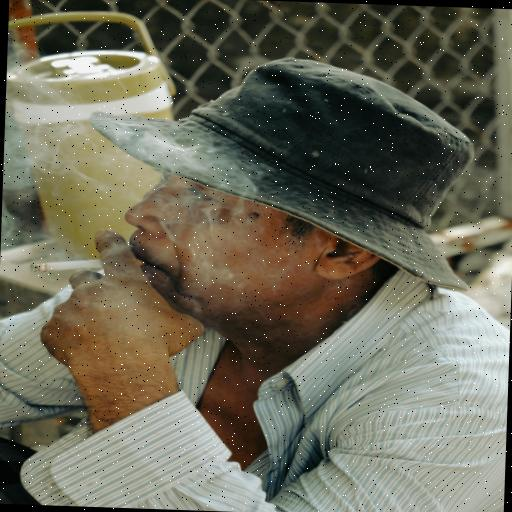merokok: (16, 136, 219, 317)
